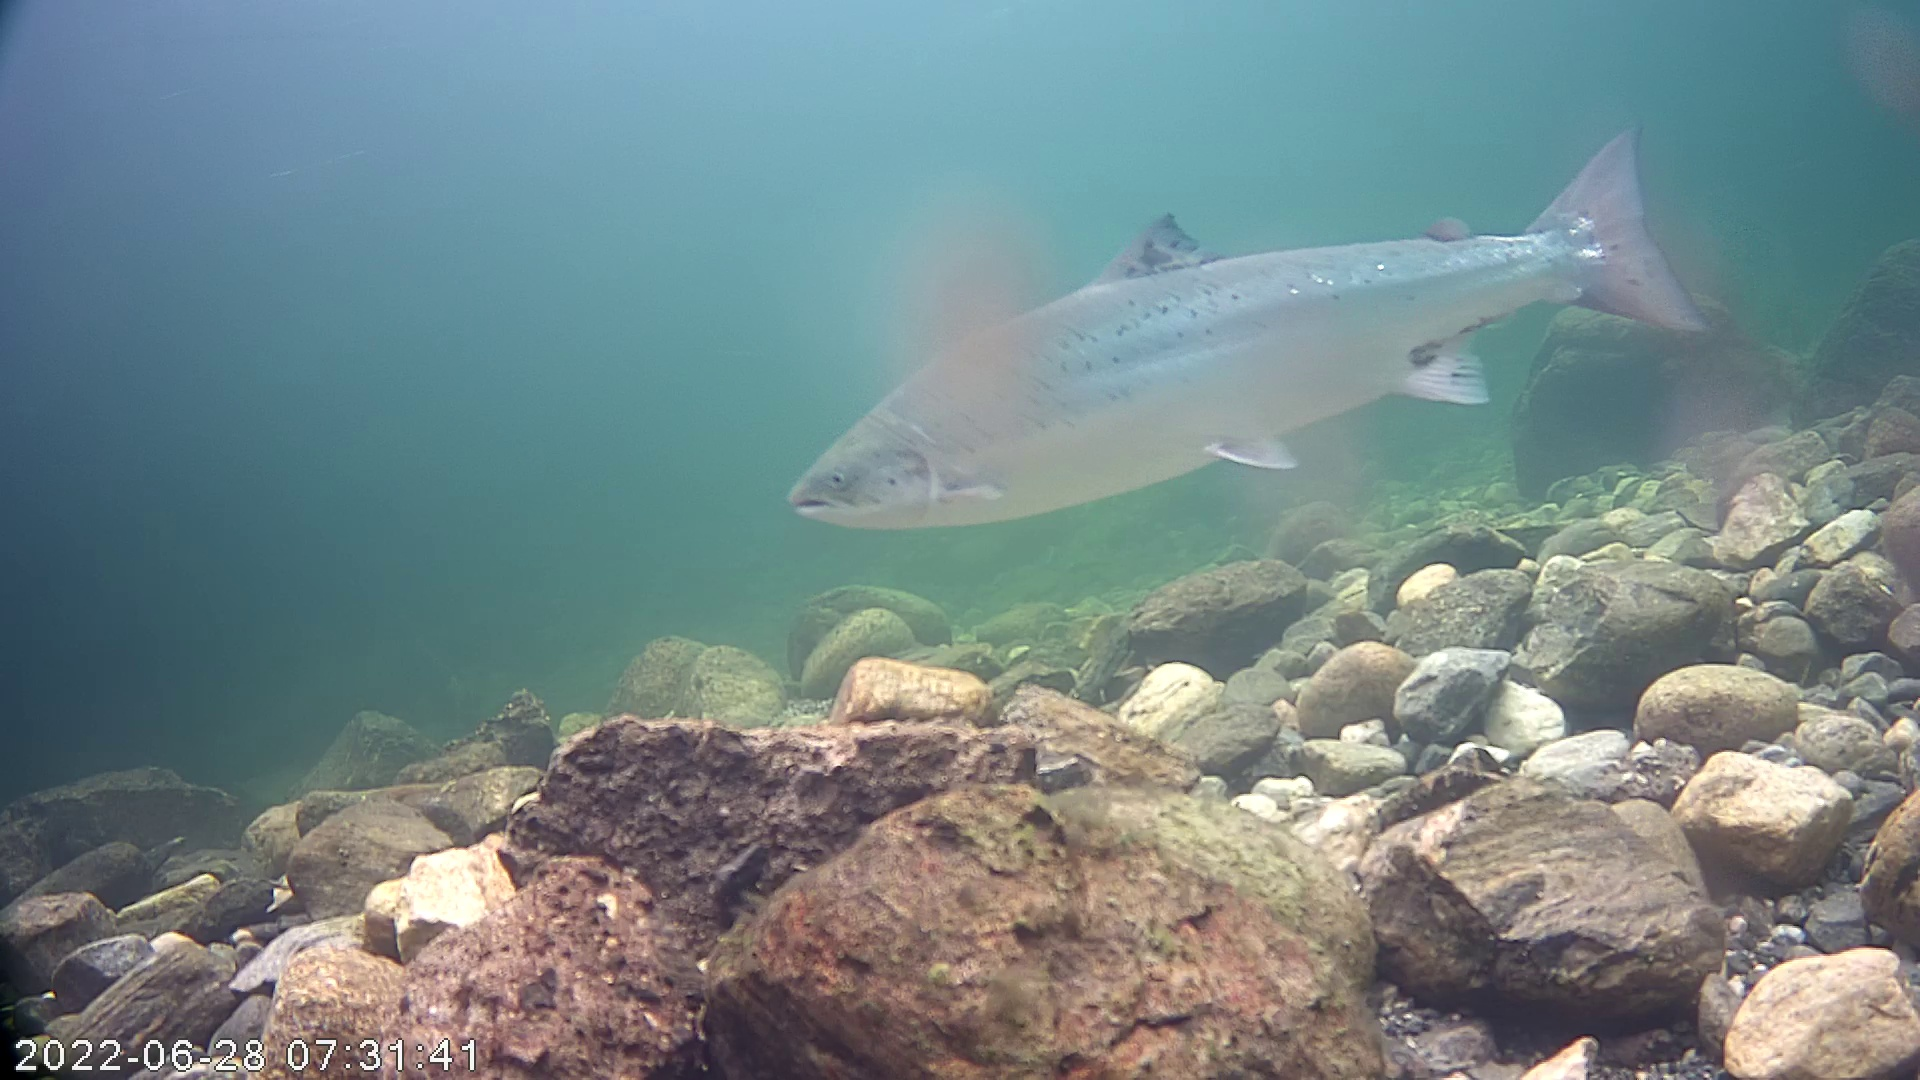salmon: (785, 115, 1717, 545)
